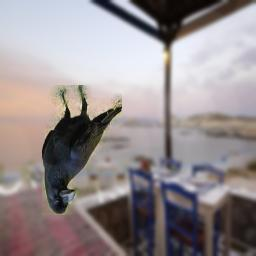Crow: (42, 85, 122, 215)
